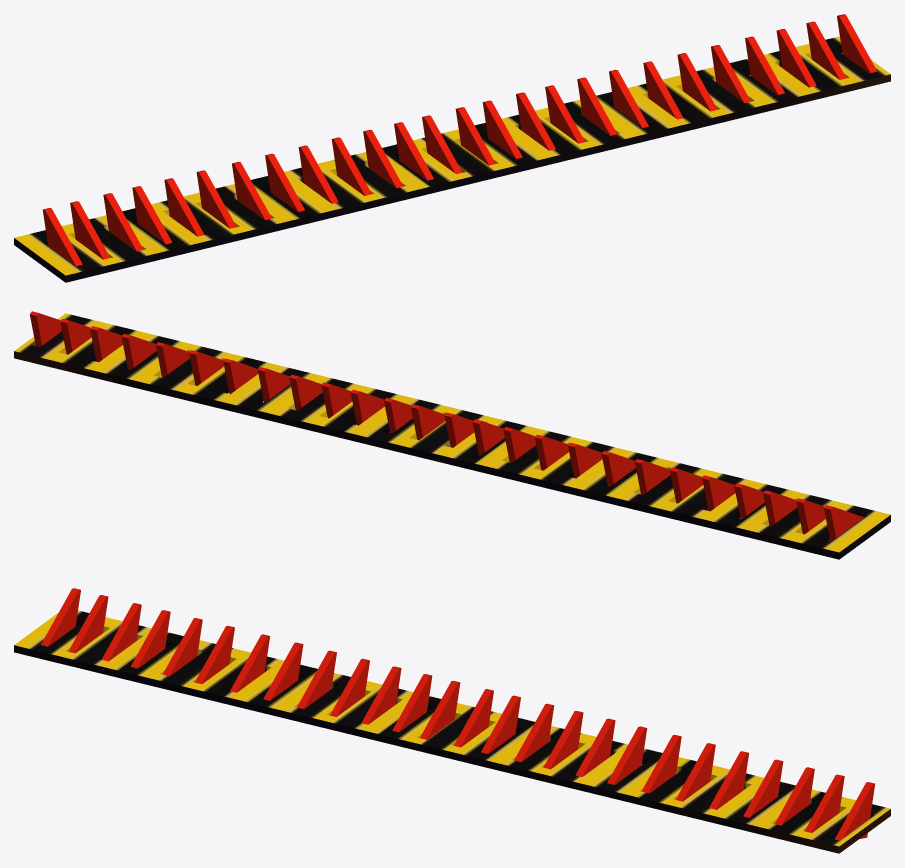
Rendered from spikes.glb.
The picture shows the model from 3 angles, top to bottom: view 1: azimuth 30°, elevation 25°; view 2: azimuth 150°, elevation 25°; view 3: azimuth 330°, elevation 25°; orthographic projection.
Parts seen in each view (by area): view 1: Cube.002_Material_0, Cube.025_Material.001_0; view 2: Cube.002_Material_0, Cube.025_Material.001_0; view 3: Cube.002_Material_0, Cube.025_Material.001_0.
Part boxes in pixels (x1,y1,x2,y2): Cube.002_Material_0: (14, 36, 890, 282); Cube.025_Material.001_0: (42, 14, 877, 266); Cube.002_Material_0: (14, 313, 890, 559); Cube.025_Material.001_0: (29, 311, 863, 540); Cube.002_Material_0: (14, 610, 890, 853); Cube.025_Material.001_0: (41, 588, 874, 840).
Bounding box in the file's own units: 16.41 × 0.9381 × 1.78.
2 materials, 1 textured.
